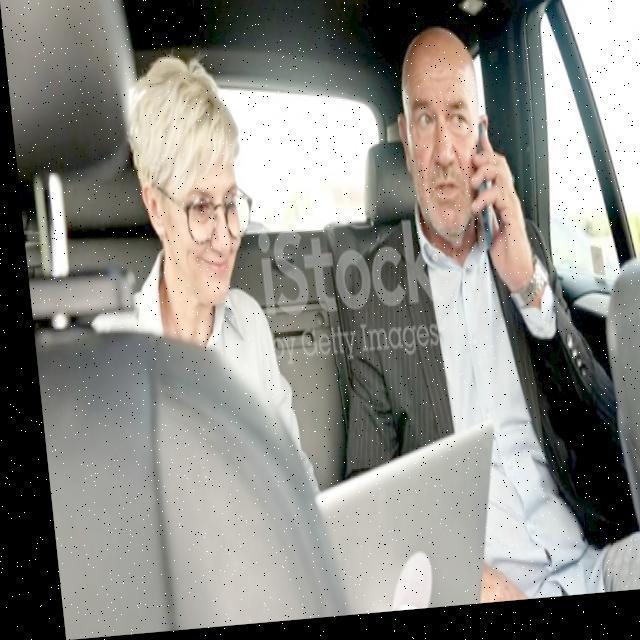PhoneCall: (462, 136, 494, 259)
